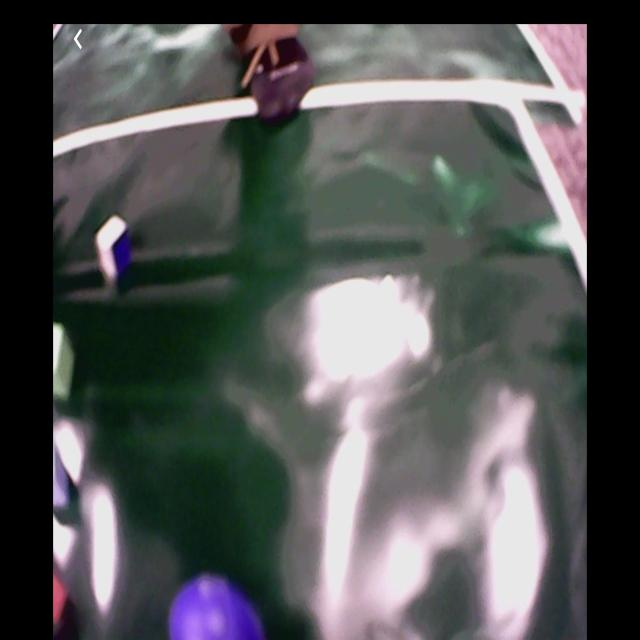ball: (168, 578, 262, 640)
